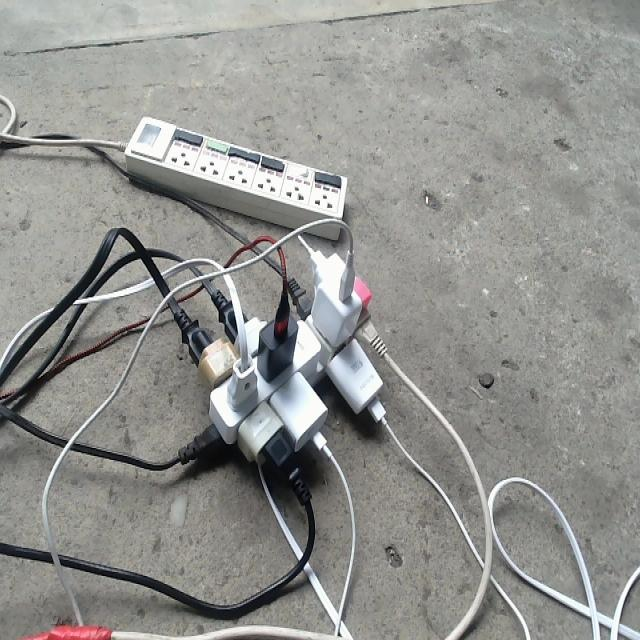-: (185, 248, 388, 465)
